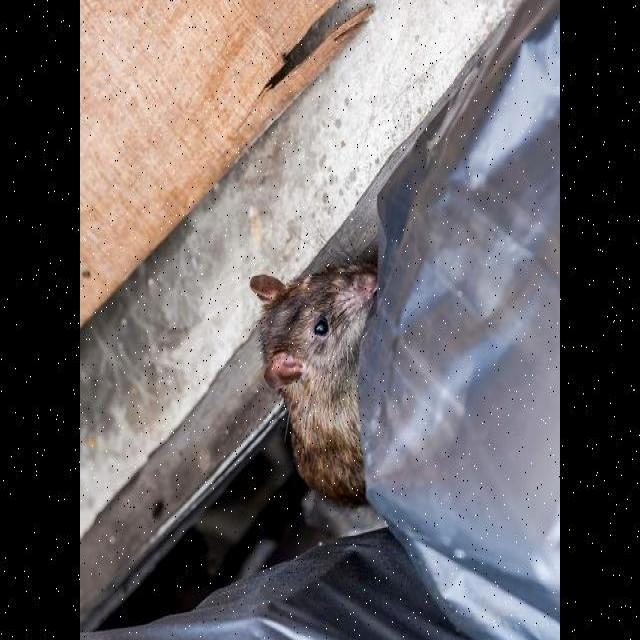rat: (250, 267, 380, 498)
